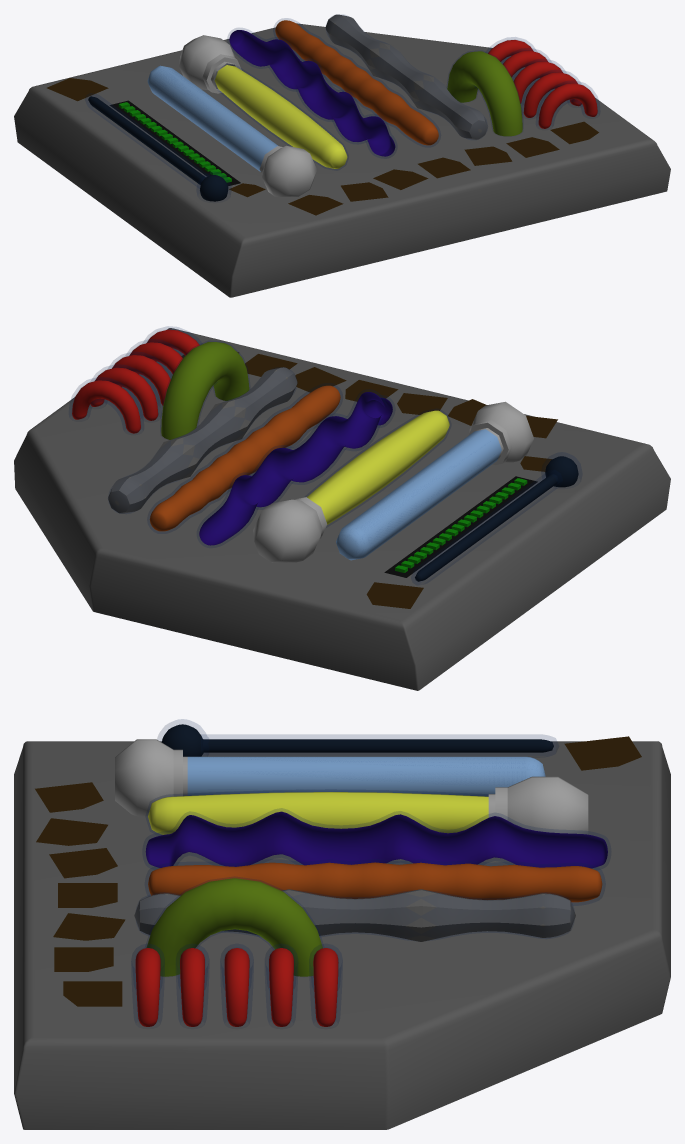
Rendered from m_gasTubes_toAnimateBubbles.FBX.
3 renders of one model, top to bottom at view 1: azimuth 30°, elevation 25°; view 2: azimuth 150°, elevation 25°; view 3: azimuth 270°, elevation 25°, orthographic. The views are drawn at different scales.
Visible parts, largest first — view 1: tubesPanel, tags, MethaneLiquid, HydrogenLiquid, ChlorineLiquid, liquid_CarbonDioxide, liquid_Oxygen, liquidNitrogen, SulphurLiquid, CarbonDioxideTubes, oxygenTubes, Volume (+6 smaller); view 2: tubesPanel, MethaneLiquid, HydrogenLiquid, liquid_Oxygen, ChlorineLiquid, liquid_CarbonDioxide, liquidNitrogen, tags, SulphurLiquid, CarbonDioxideTubes, Volume, oxygenTubes (+6 smaller); view 3: tubesPanel, MethaneLiquid, ChlorineLiquid, liquid_Oxygen, tags, HydrogenLiquid, liquid_CarbonDioxide, SulphurLiquid, liquidNitrogen, CarbonDioxideTubes, tempLiquid_ToAnimate, oxygenTubes (+6 smaller).
Boxes of the visible parts, x1,y1,x2,y2 form: tubesPanel: [14, 23, 670, 297]; tags: [47, 78, 598, 215]; MethaneLiquid: [229, 30, 395, 156]; HydrogenLiquid: [325, 14, 487, 139]; ChlorineLiquid: [275, 20, 438, 145]; liquid_CarbonDioxide: [214, 65, 347, 168]; liquid_Oxygen: [147, 65, 278, 171]; liquidNitrogen: [488, 40, 597, 128]; SulphurLiquid: [447, 51, 522, 136]; CarbonDioxideTubes: [179, 35, 348, 170]; oxygenTubes: [259, 145, 316, 197]; Volume: [109, 100, 240, 186]; tubesPanel: [14, 328, 670, 690]; MethaneLiquid: [199, 392, 392, 545]; HydrogenLiquid: [108, 367, 297, 513]; liquid_Oxygen: [336, 429, 501, 560]; ChlorineLiquid: [149, 385, 340, 531]; liquid_CarbonDioxide: [307, 410, 449, 524]; liquidNitrogen: [72, 329, 199, 433]; tags: [181, 352, 557, 608]; SulphurLiquid: [161, 342, 249, 439]; CarbonDioxideTubes: [253, 409, 450, 562]; Volume: [384, 476, 537, 577]; oxygenTubes: [468, 401, 533, 465]; tubesPanel: [14, 741, 670, 1129]; MethaneLiquid: [145, 811, 607, 868]; ChlorineLiquid: [148, 862, 602, 902]; liquid_Oxygen: [187, 756, 545, 796]; tags: [35, 736, 641, 1006]; HydrogenLiquid: [134, 889, 575, 941]; liquid_CarbonDioxide: [148, 792, 488, 834]; SulphurLiquid: [146, 878, 322, 976]; liquidNitrogen: [135, 948, 338, 1026]; CarbonDioxideTubes: [146, 776, 588, 835]; tempLiquid_ToAnimate: [203, 739, 553, 752]; oxygenTubes: [115, 739, 187, 816].
Size of the model in its own units: 8.44 by 2.07 by 7.3.
